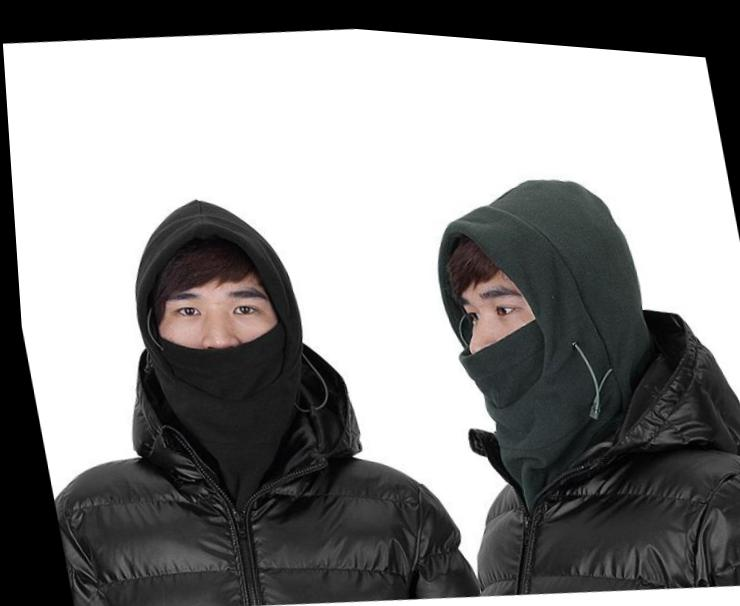WRONG: (148, 266, 308, 427), (442, 268, 579, 406)
